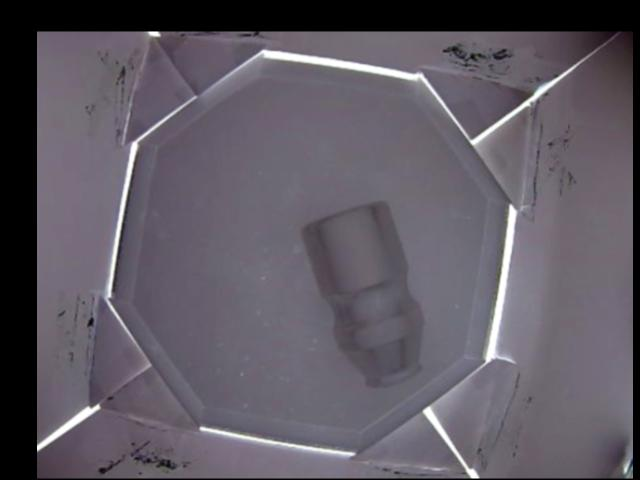Bottle: (301, 198, 422, 384)
